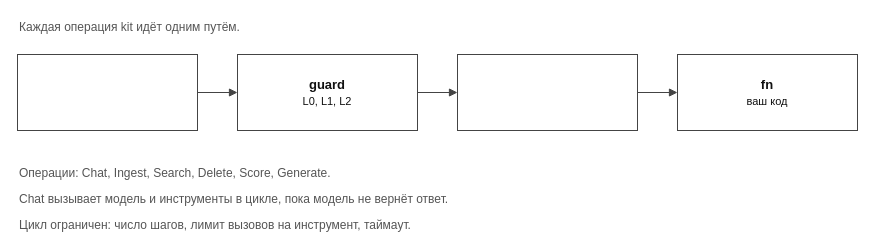
The diagram is 875 pixels wide and 252 high, and some of its shapes have lost their labels. Each missing label, with the centre of its shape:
authz проверка прав: point (107, 92)
span запись трейса: point (547, 92)
